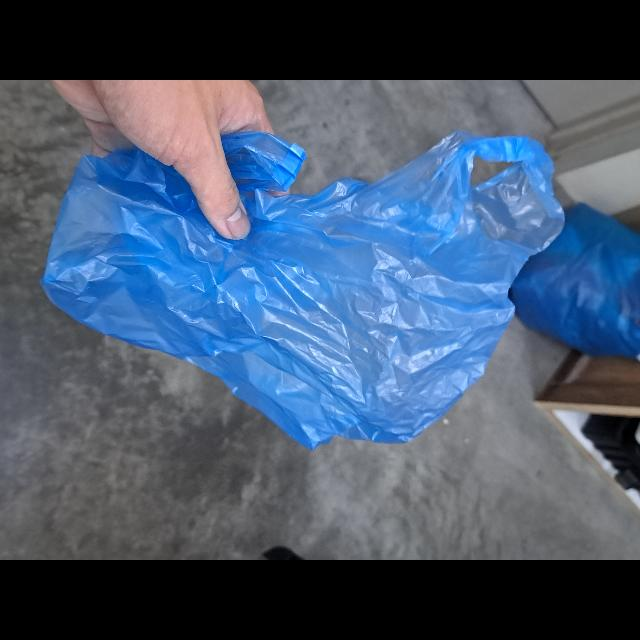sacola plástica: (43, 127, 567, 451), (506, 204, 640, 364)
